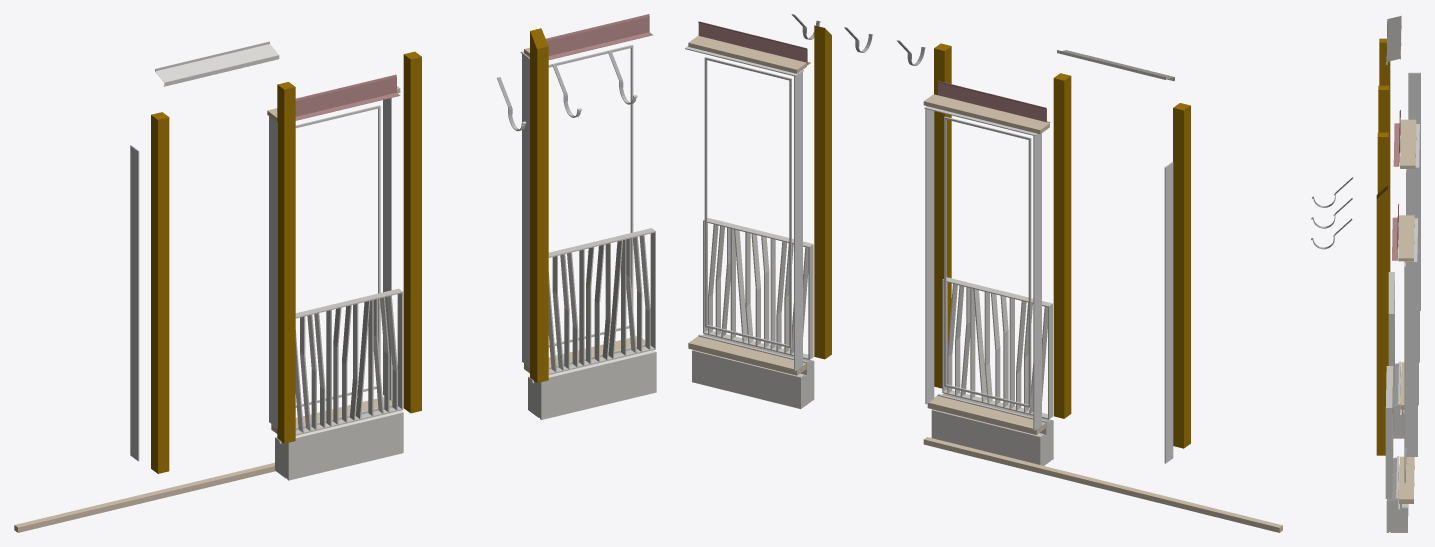
The picture shows the model from 3 angles, left to right: view 1: azimuth 30°, elevation 25°; view 2: azimuth 150°, elevation 25°; view 3: azimuth 270°, elevation 25°; orthographic projection. The views are drawn at different scales.
Bounding box in the file's own units: 5.51 × 3.7 × 1.1.
